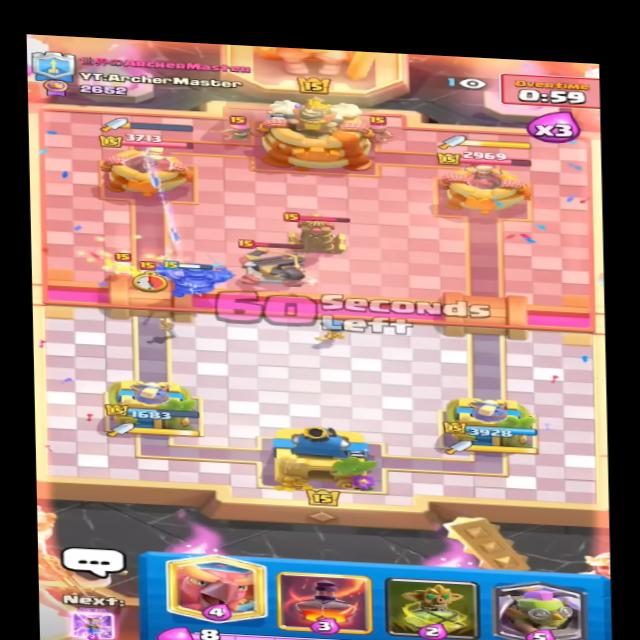archer: (354, 116, 399, 140), (223, 113, 261, 139)
skeleton: (107, 248, 136, 278)
tesla: (284, 212, 356, 258)
x-bow: (223, 237, 315, 293)
